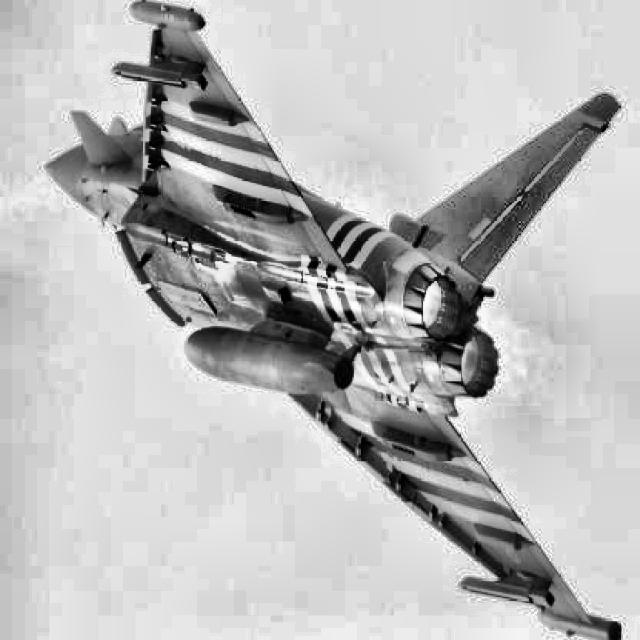EF2000: (43, 1, 622, 639)
